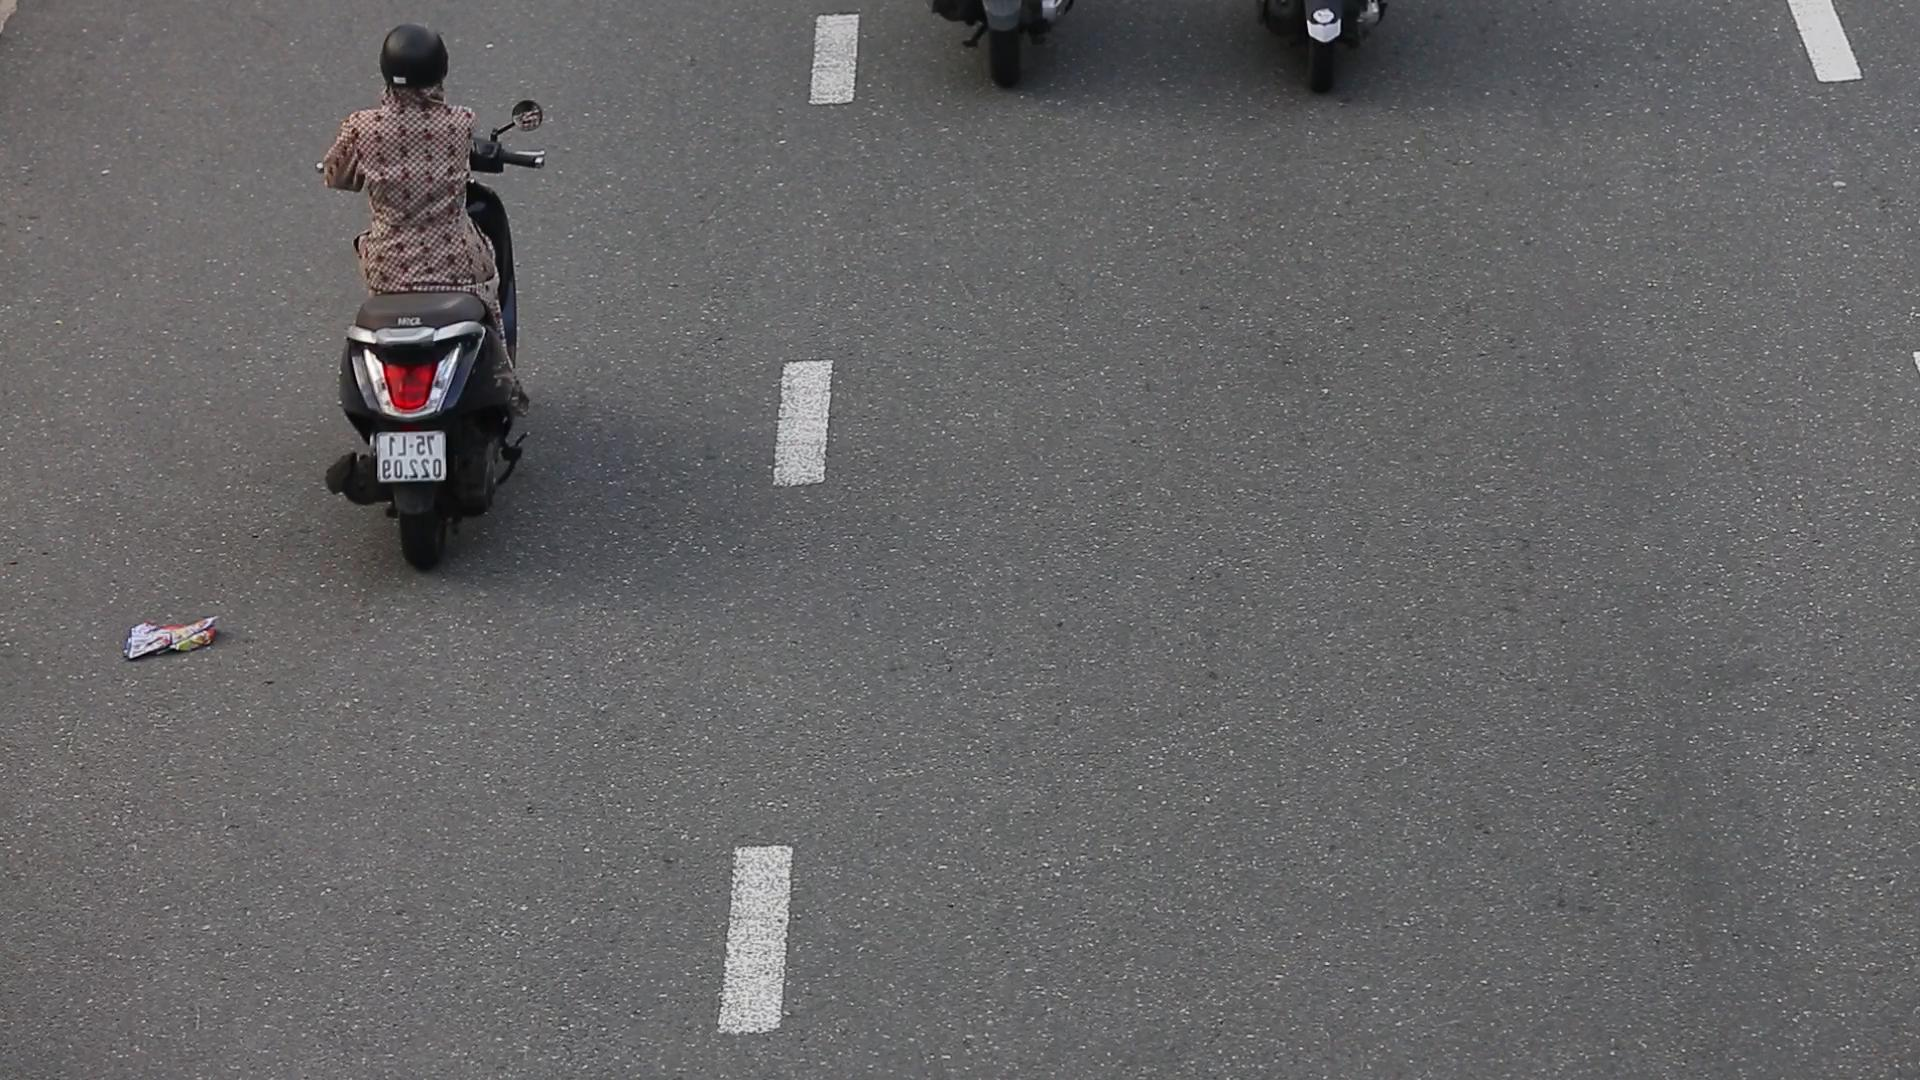motobike: (307, 5, 576, 582)
